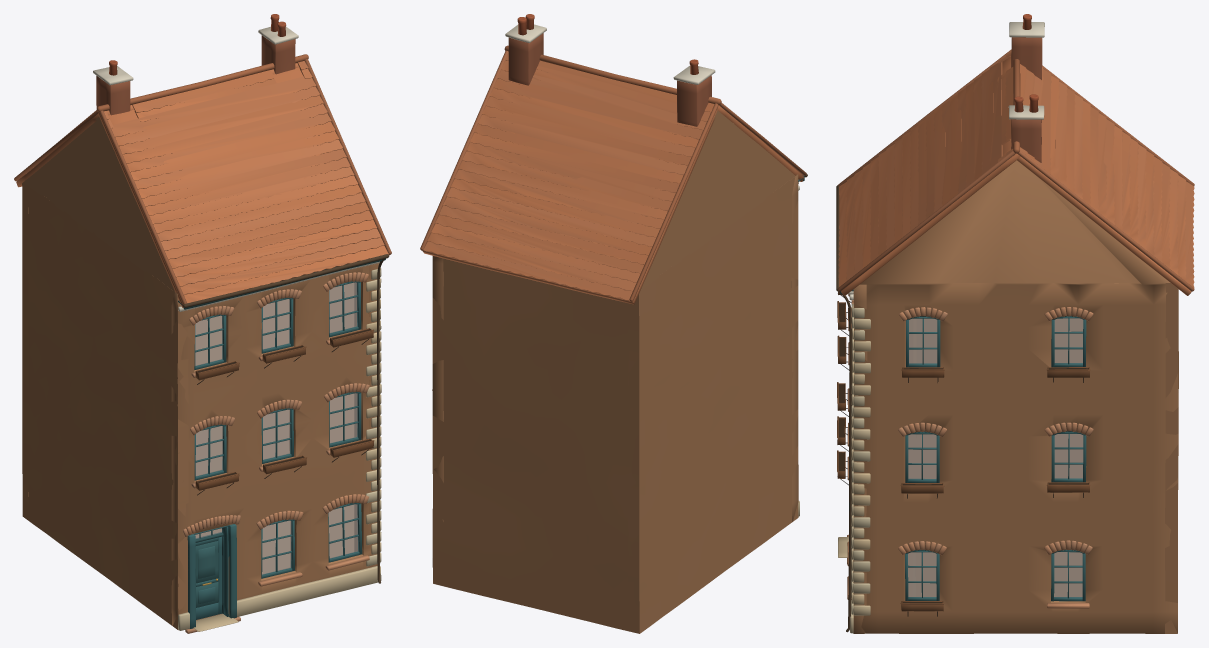
File: StraightEnd_Outer3.glb
The picture shows the model from 3 angles, left to right: view 1: azimuth 30°, elevation 25°; view 2: azimuth 150°, elevation 25°; view 3: azimuth 270°, elevation 25°; orthographic projection. The views are drawn at different scales.
Parts seen in each view (by area): view 1: Sammel Ziegel, Sammel Stein, Sammel Lack, Sammel Putz innen, Glas, Sammel Putz, Sammel Holz, Sammel Metall; view 2: Sammel Ziegel, Sammel Stein, Sammel Putz; view 3: Sammel Ziegel, Sammel Stein, Sammel Putz innen, Glas, Sammel Putz, Sammel Lack, Sammel Holz, Sammel Metall.
Part boxes in pixels (left/top/right/bottom): Sammel Ziegel: left=22, top=35, right=379, bottom=630; Sammel Stein: left=14, top=54, right=391, bottom=631; Sammel Lack: left=178, top=258, right=385, bottom=628; Sammel Putz innen: left=195, top=282, right=357, bottom=619; Glas: left=195, top=282, right=357, bottom=574; Sammel Putz: left=93, top=14, right=379, bottom=633; Sammel Holz: left=195, top=328, right=374, bottom=490; Sammel Metall: left=183, top=254, right=389, bottom=585; Sammel Ziegel: left=432, top=33, right=798, bottom=633; Sammel Stein: left=420, top=45, right=806, bottom=516; Sammel Putz: left=505, top=14, right=799, bottom=190; Sammel Ziegel: left=853, top=37, right=1178, bottom=633; Sammel Stein: left=838, top=49, right=1194, bottom=633; Sammel Putz innen: left=908, top=318, right=1083, bottom=596; Glas: left=908, top=318, right=1082, bottom=596; Sammel Putz: left=838, top=14, right=1093, bottom=608; Sammel Lack: left=840, top=289, right=1086, bottom=601; Sammel Holz: left=837, top=291, right=1090, bottom=611; Sammel Metall: left=836, top=185, right=1083, bottom=632.
Size of the model in its own units: 6.49 by 14.49 by 8.84.
